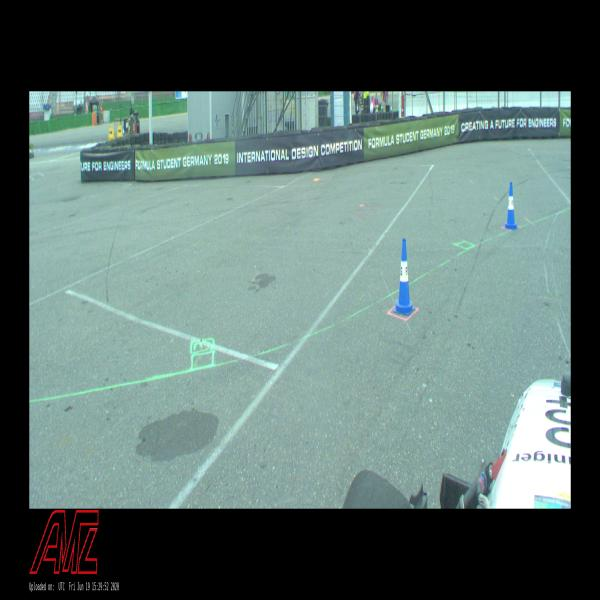blue_cone: (393, 238, 415, 316), (504, 183, 518, 229)
